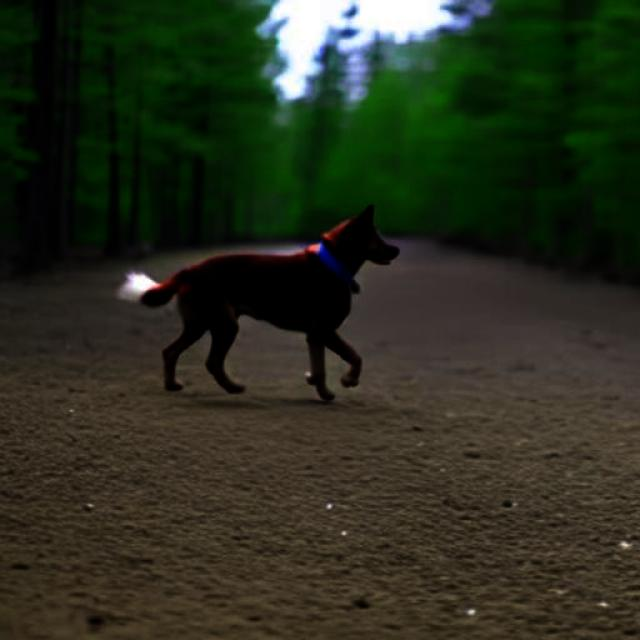Dog: (116, 202, 399, 401)
